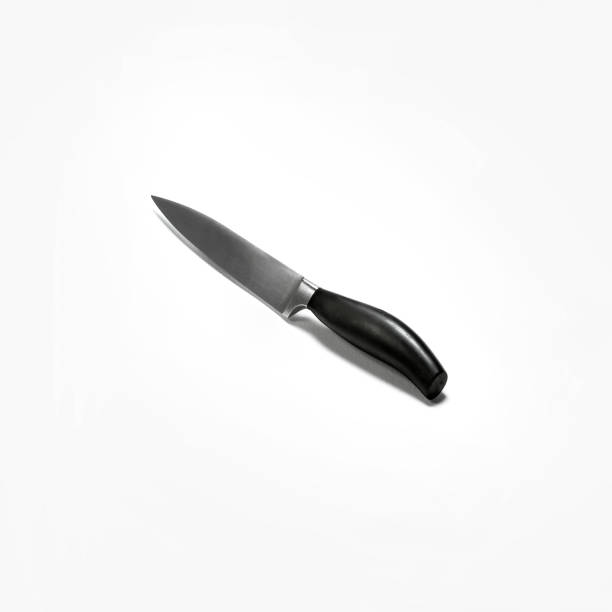knife: (145, 191, 450, 404)
